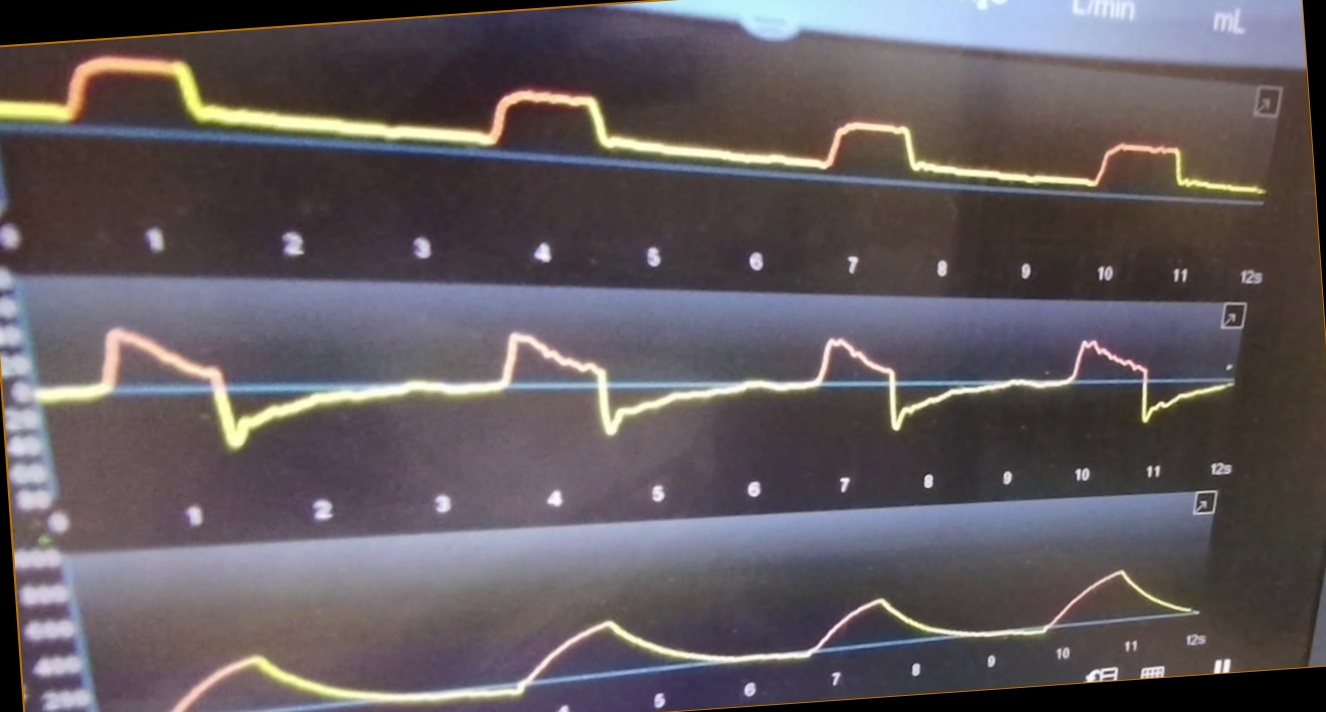Accumulation Flow: (42, 313, 1236, 453)
Volume: (169, 545, 1199, 712)
